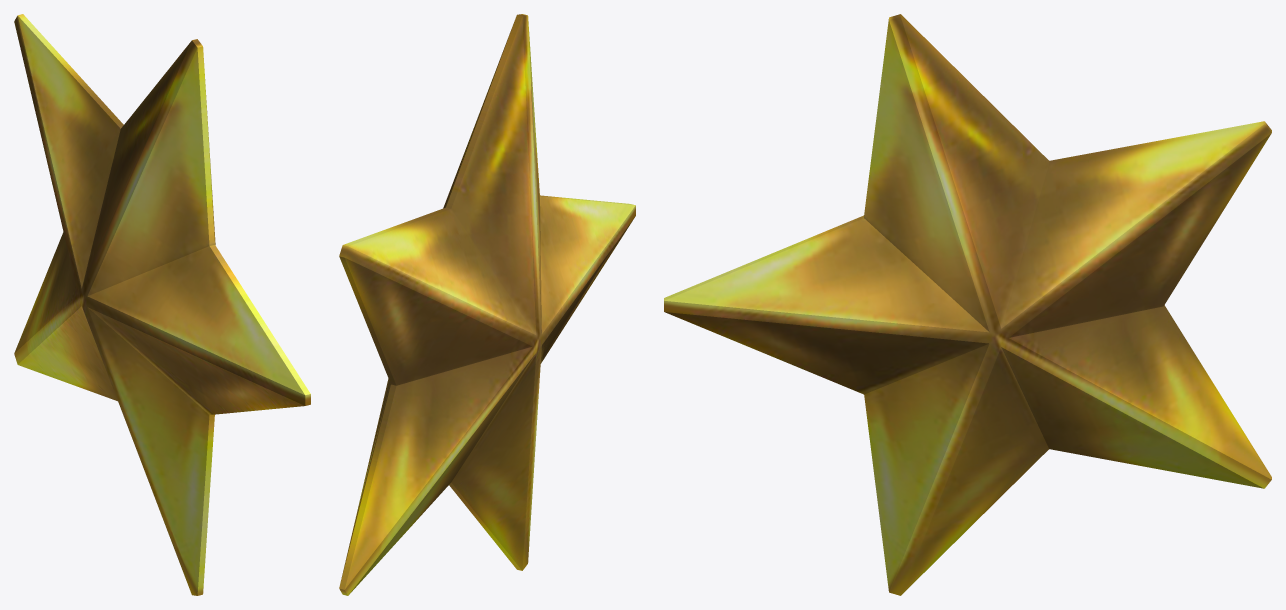
File: star.fbx
3 renders of one model, left to right at view 1: azimuth 30°, elevation 25°; view 2: azimuth 150°, elevation 25°; view 3: azimuth 270°, elevation 25°, orthographic. The views are drawn at different scales.
Visible parts, largest first — view 1: pCylinder3; view 2: pCylinder3; view 3: pCylinder3.
Part boxes in pixels (x1,y1,x2,y2): pCylinder3: (14,14,310,595); pCylinder3: (339,14,635,595); pCylinder3: (664,14,1271,595).
Size of the model in its own units: 17.35 by 71.06 by 67.58.
1 material, 1 textured.
